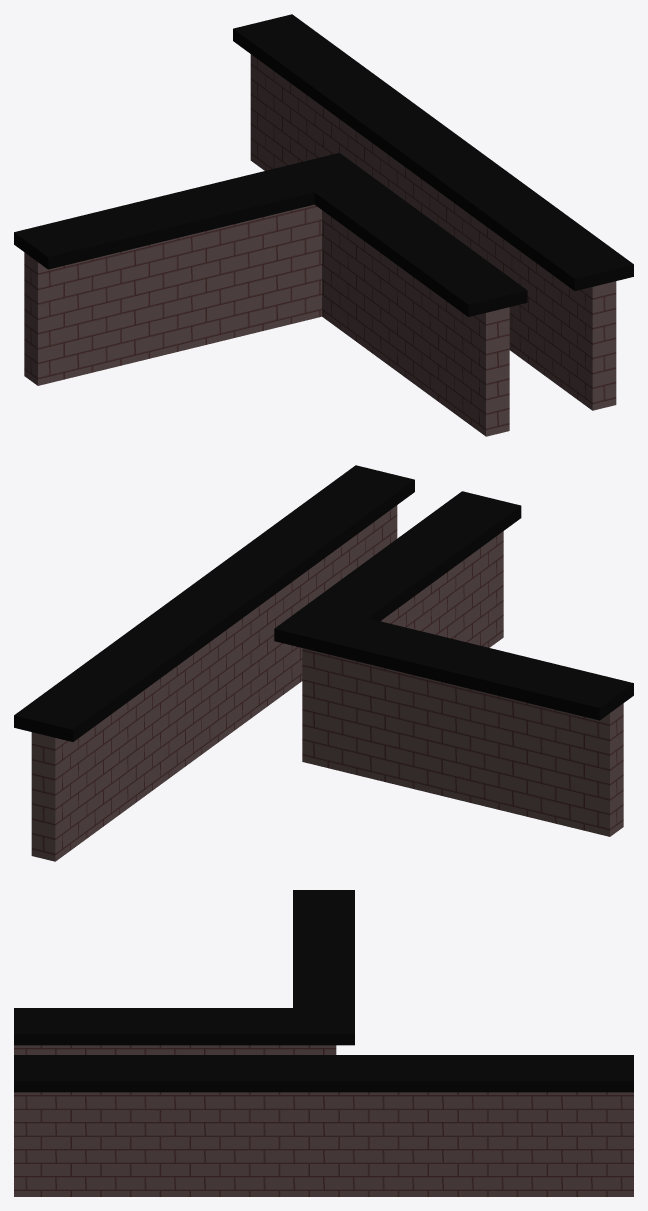
The model's file is Walls.fbx.
3 renders of one model, top to bottom at view 1: azimuth 30°, elevation 25°; view 2: azimuth 150°, elevation 25°; view 3: azimuth 270°, elevation 25°, orthographic. The views are drawn at different scales.
Visible parts, largest first — view 1: Ugol, U, L, Line; view 2: Ugol, Line, U, L; view 3: Line, L, U, Ugol.
Part boxes in pixels (x1,y1,x2,y2): Ugol: (24,204,509,436); U: (14,153,527,316); L: (233,14,633,290); Line: (250,54,616,410); Ugol: (302,531,623,836); Line: (31,505,397,861); U: (274,491,633,720); L: (14,465,414,741); Line: (14,1092,633,1196); L: (14,1055,633,1092); U: (14,890,354,1045); Ugol: (14,1045,336,1054).
Bounding box in the file's own units: 365 × 110 × 500.
